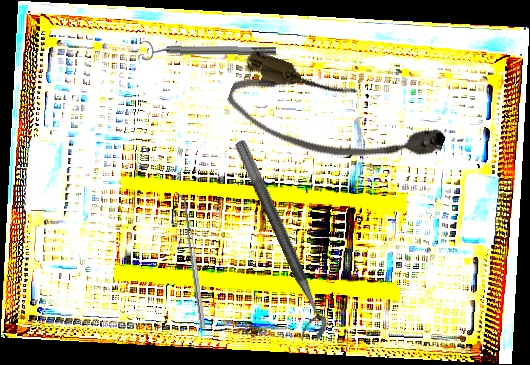Cannula: (220, 47, 452, 193)
Fixation Ring: (217, 138, 333, 347), (141, 38, 277, 64)
Spatula Surgical: (175, 190, 206, 330)
